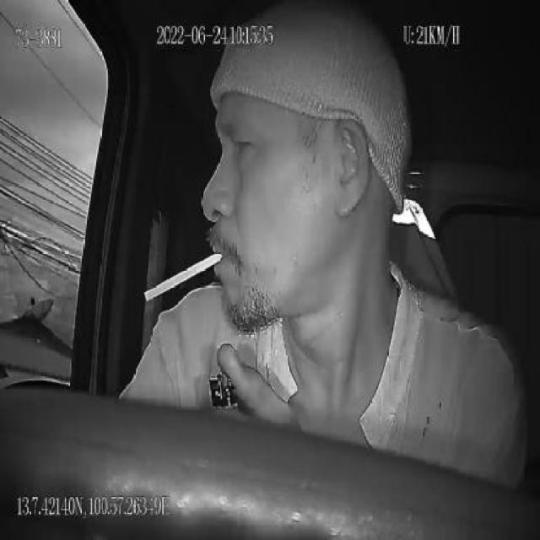smoking: (142, 247, 225, 307)
